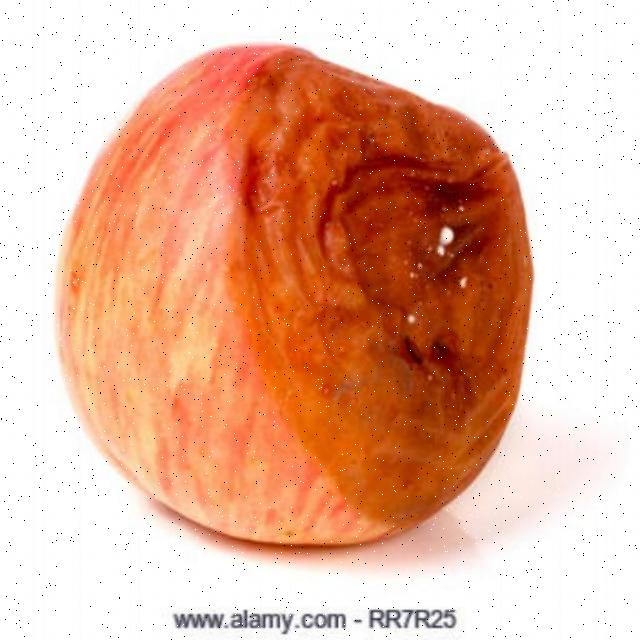ROT: (74, 51, 546, 546)
